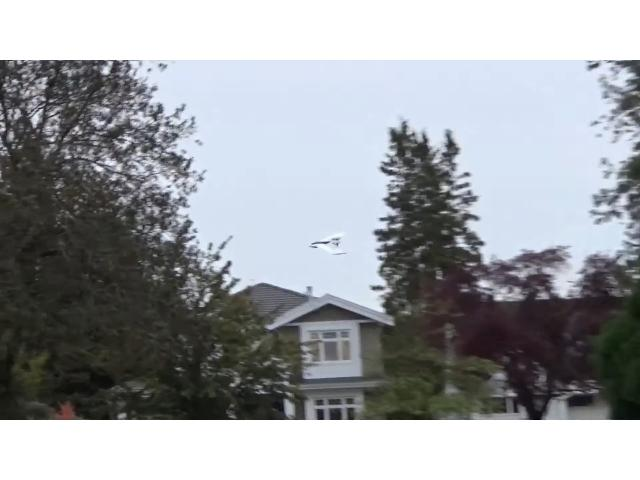Anti-Drone: (309, 232, 346, 254)
